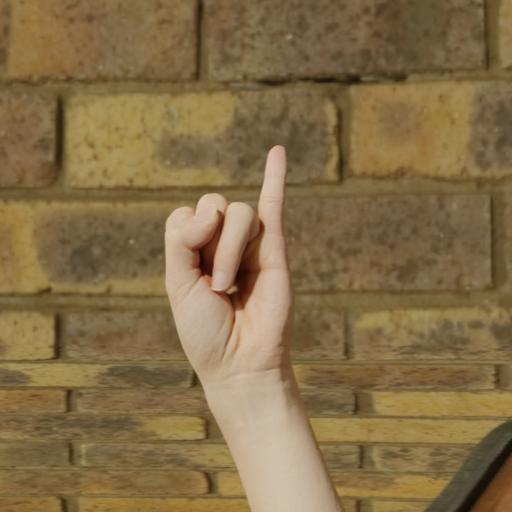I: (156, 137, 307, 405)
